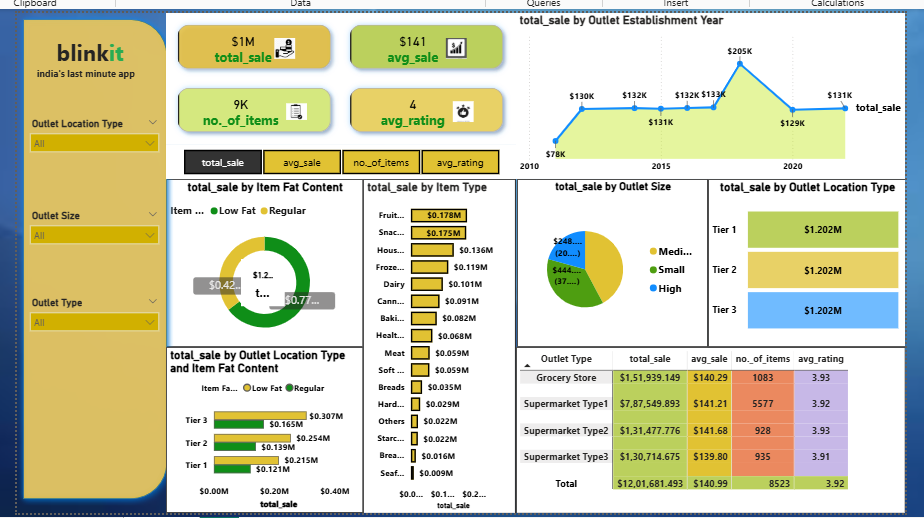

What the dashboard file says about the page in this screenshot:
{"tool":"powerbi","page":{"name":"Page 1","canvas":[1280,720],"ordinal":0},"visuals":[{"type":"shape","box":[215,179.7,514,540.9],"z":0},{"type":"donutChart","fields":{"Y":["BlinkIT Grocery Data.total_sale"],"Category":["BlinkIT Grocery Data.Item Fat Content"]},"box":[215,238.5,283.9,241.9],"z":1000},{"type":"shape","box":[0,0,225.1,708.9],"z":2000},{"type":"textbox","box":[8.4,73.9,181.4,28.6],"z":3000},{"type":"textbox","box":[8.4,28.6,193.2,60.5],"z":4000},{"type":"cardVisual","fields":{"Data":["BlinkIT Grocery Data.total_sale","BlinkIT Grocery Data.avg_sale","BlinkIT Grocery Data.no._of_items","BlinkIT Grocery Data.avg_rating"]},"box":[215,0,503.9,189.8],"z":5000},{"type":"slicer","fields":{"Values":["matics.matics"]},"box":[215,189.8,503.9,48.7],"z":6000},{"type":"clusteredBarChart","fields":{"Y":["BlinkIT Grocery Data.total_sale"],"Series":["BlinkIT Grocery Data.Item Fat Content"],"Category":["BlinkIT Grocery Data.Outlet Location Type"]},"box":[214.6,481,283.7,239],"z":7000},{"type":"cardVisual","fields":{"Data":["BlinkIT Grocery Data.total_sale"]},"box":[322.6,354.2,63.4,67.7],"z":8000},{"type":"clusteredBarChart","fields":{"Y":["BlinkIT Grocery Data.total_sale"],"Category":["BlinkIT Grocery Data.Item Type"]},"box":[498.9,238.5,220.1,482.1],"z":9000},{"type":"lineChart","fields":{"Category":["BlinkIT Grocery Data.Outlet Establishment Year"],"Y":["BlinkIT Grocery Data.total_sale"]},"box":[718.6,0,561.6,239],"z":10000},{"type":"pieChart","fields":{"Y":["BlinkIT Grocery Data.total_sale"],"Category":["BlinkIT Grocery Data.Outlet Size"]},"box":[720,239,275,241.9],"z":11000},{"type":"pivotTable","fields":{"Values":["BlinkIT Grocery Data.total_sale","BlinkIT Grocery Data.avg_sale","BlinkIT Grocery Data.no._of_items","BlinkIT Grocery Data.avg_rating"],"Rows":["BlinkIT Grocery Data.Outlet Type"]},"box":[719,480.4,561,240.2],"z":13000},{"type":"slicer","fields":{"Values":["BlinkIT Grocery Data.Outlet Location Type"]},"box":[8.6,145.4,205.9,93.6],"z":14000},{"type":"funnel","fields":{"Category":["Table1.Outlet Location Type"],"Y":["BlinkIT Grocery Data.total_sale"]},"box":[995,239,285.1,241.9],"z":14001},{"type":"slicer","fields":{"Values":["BlinkIT Grocery Data.Outlet Size"]},"box":[8.6,277.9,205.9,93.6],"z":14002},{"type":"slicer","fields":{"Values":["BlinkIT Grocery Data.Outlet Type"]},"box":[8.6,403.2,205.9,93.6],"z":14003}]}

Visuals, with their boxes in screenshot pixels (x1, y1, x2, y2):
shape: {"left": 166, "top": 140, "right": 518, "bottom": 509}
donutChart - BlinkIT Grocery Data.total_sale x BlinkIT Grocery Data.Item Fat Content: {"left": 166, "top": 180, "right": 360, "bottom": 345}
shape: {"left": 19, "top": 17, "right": 173, "bottom": 501}
textbox: {"left": 25, "top": 67, "right": 149, "bottom": 87}
textbox: {"left": 25, "top": 36, "right": 157, "bottom": 78}
cardVisual - BlinkIT Grocery Data.total_sale x BlinkIT Grocery Data.avg_sale: {"left": 166, "top": 17, "right": 511, "bottom": 147}
slicer - matics.matics: {"left": 166, "top": 147, "right": 511, "bottom": 180}
clusteredBarChart - BlinkIT Grocery Data.total_sale x BlinkIT Grocery Data.Item Fat Content: {"left": 166, "top": 346, "right": 360, "bottom": 509}
cardVisual - BlinkIT Grocery Data.total_sale: {"left": 240, "top": 259, "right": 283, "bottom": 305}
clusteredBarChart - BlinkIT Grocery Data.total_sale x BlinkIT Grocery Data.Item Type: {"left": 360, "top": 180, "right": 511, "bottom": 509}
lineChart - BlinkIT Grocery Data.Outlet Establishment Year x BlinkIT Grocery Data.total_sale: {"left": 510, "top": 17, "right": 894, "bottom": 180}
pieChart - BlinkIT Grocery Data.total_sale x BlinkIT Grocery Data.Outlet Size: {"left": 511, "top": 180, "right": 699, "bottom": 346}
pivotTable - BlinkIT Grocery Data.total_sale x BlinkIT Grocery Data.avg_sale: {"left": 511, "top": 345, "right": 894, "bottom": 509}
slicer - BlinkIT Grocery Data.Outlet Location Type: {"left": 25, "top": 116, "right": 166, "bottom": 180}
funnel - Table1.Outlet Location Type x BlinkIT Grocery Data.total_sale: {"left": 699, "top": 180, "right": 894, "bottom": 346}
slicer - BlinkIT Grocery Data.Outlet Size: {"left": 25, "top": 207, "right": 166, "bottom": 271}
slicer - BlinkIT Grocery Data.Outlet Type: {"left": 25, "top": 292, "right": 166, "bottom": 356}
